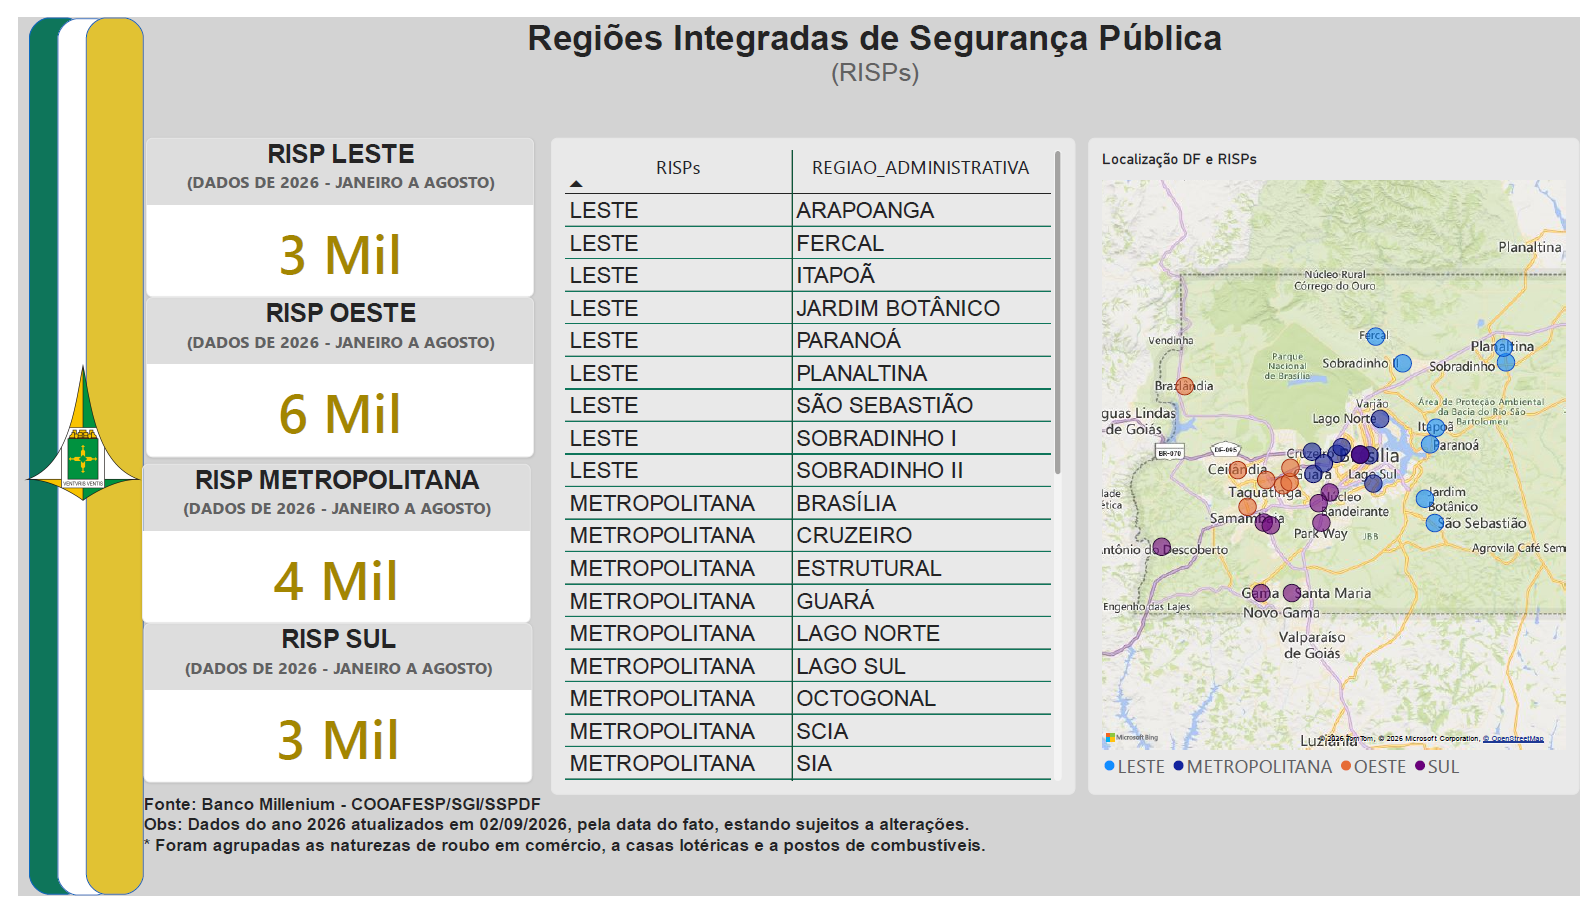

The dashboard page shown, as its layout file describes it:
{"tool":"powerbi","page":{"name":"RISP","canvas":[1920,1080],"ordinal":1},"visuals":[{"type":"cardVisual","title":"RISP LESTE","fields":{"Data":["Sum(EIXOS INDICADORES  (LESTE).QUANTIDADE)"]},"box":[156.5,148.2,477.9,196.2],"z":0},{"type":"shape","box":[12.5,0,71,1079],"z":1000},{"type":"shape","box":[47.6,1,71,1079],"z":2000},{"type":"shape","box":[83.5,0,71,1079],"z":3000},{"type":"image","box":[4.2,402.8,150.3,215],"z":4000},{"type":"textbox","title":"Regiões Integradas de Segurança Pública","box":[562.9,0,980.9,87.7],"z":5000},{"type":"textbox","box":[154.4,955.8,1145.7,125.2],"z":6000},{"type":"cardVisual","title":"RISP METROPOLITANA","fields":{"Data":["Sum(METROPOLITANA.Valor)"]},"box":[152.3,548.9,477.9,196.2],"z":7000},{"type":"cardVisual","title":"RISP SUL","fields":{"Data":["Sum(SUL.QUANTIDADE)"]},"box":[154.4,745,477.9,196.2],"z":8000},{"type":"cardVisual","title":"RISP OESTE","fields":{"Data":["Sum(OESTE.QUANTIDADE)"]},"box":[156.5,344.3,477.9,196.2],"z":9000},{"type":"map","fields":{"Category":["RISPs.Localização DF"],"Series":["RISPs.RISPs"]},"box":[1315.6,148.4,604.4,807.3],"z":10000},{"type":"tableEx","fields":{"Values":["RISPs.RISPs","RISPs.REGIAO_ADMINISTRATIVA"]},"box":[654.5,148.4,645.8,807.3],"z":11000}]}

Visuals, with their boxes in screenshot pixels (x1, y1, x2, y2), scaled from the page's 1920x1080 canvas onto the 1592x908 screenshot:
"RISP LESTE" cardVisual: box(130, 125, 526, 290)
shape: box(10, 0, 69, 907)
shape: box(39, 1, 98, 907)
shape: box(69, 0, 128, 907)
image: box(3, 339, 128, 519)
"Regiões Integradas de Segurança Pública" textbox: box(467, 0, 1280, 74)
textbox: box(128, 804, 1078, 907)
"RISP METROPOLITANA" cardVisual: box(126, 461, 523, 626)
"RISP SUL" cardVisual: box(128, 626, 524, 791)
"RISP OESTE" cardVisual: box(130, 289, 526, 454)
map - RISPs.Localização DF x RISPs.RISPs: box(1091, 125, 1591, 803)
tableEx - RISPs.RISPs x RISPs.REGIAO_ADMINISTRATIVA: box(543, 125, 1078, 803)
